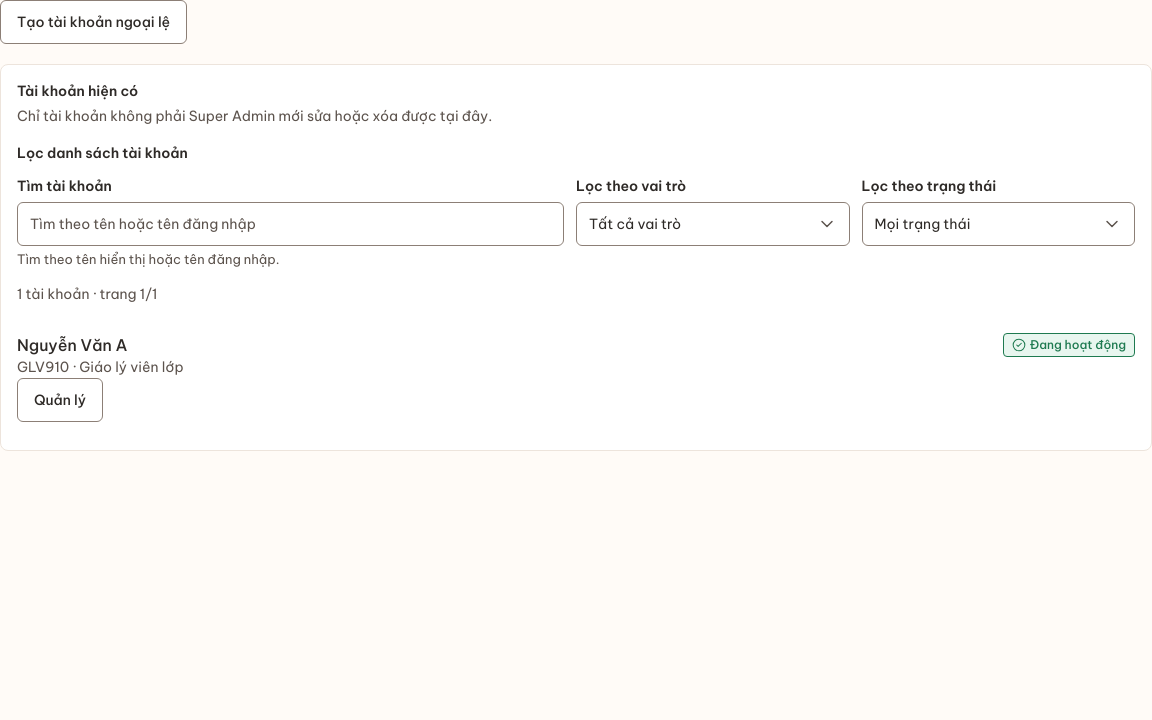
it: chỉ đường sang nơi cấp tài khoản Giáo lý viên › nói rõ tài khoản Giáo lý viên cấp ở đâu, không chỉ im lặng bỏ đi
The width and height of the screenshot is (1152, 720).
Click the button "Tạo tài khoản ngoại lệ": [94, 22] box [0, 0, 187, 44]
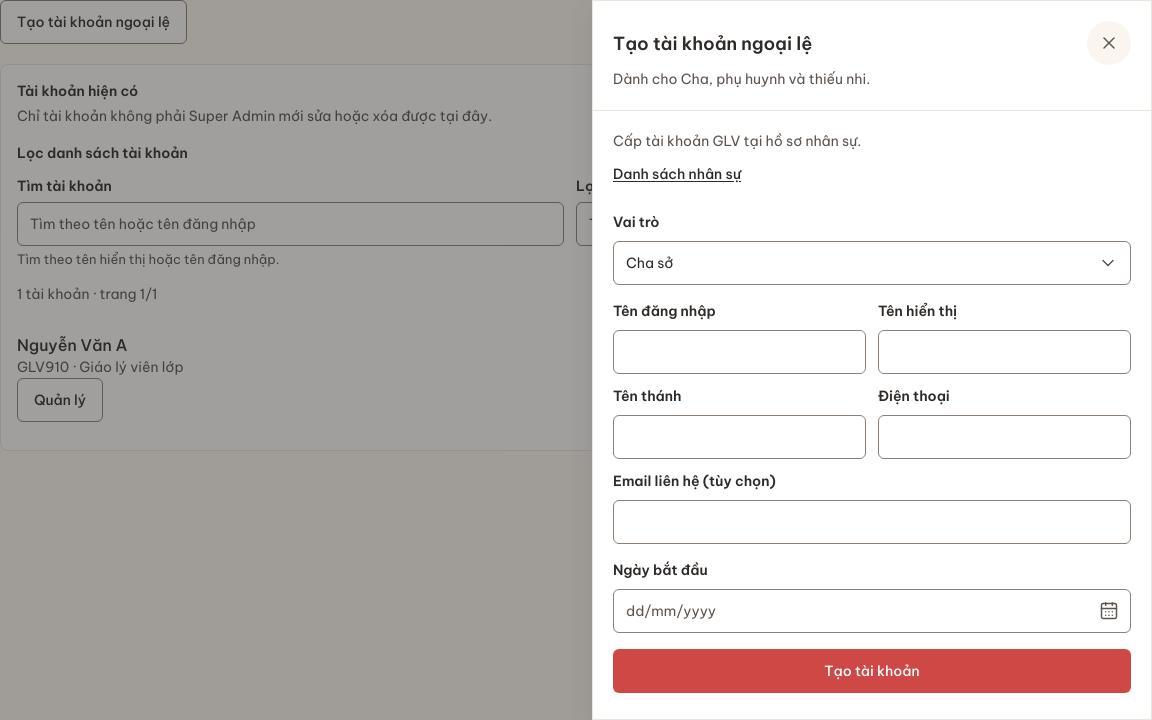
Now the text "Cấp tài khoản GLV tại hồ sơ nhân sự." is shown, box [613, 132, 861, 150]
